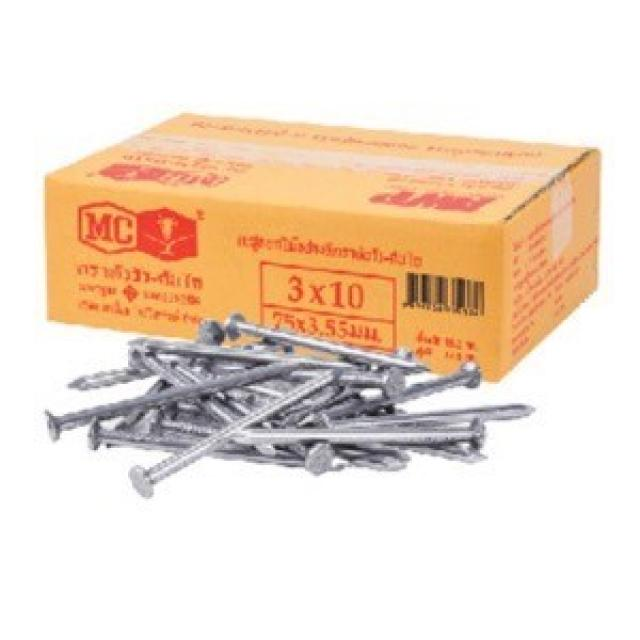3x10 nail: (220, 305, 437, 378), (222, 405, 497, 450)
